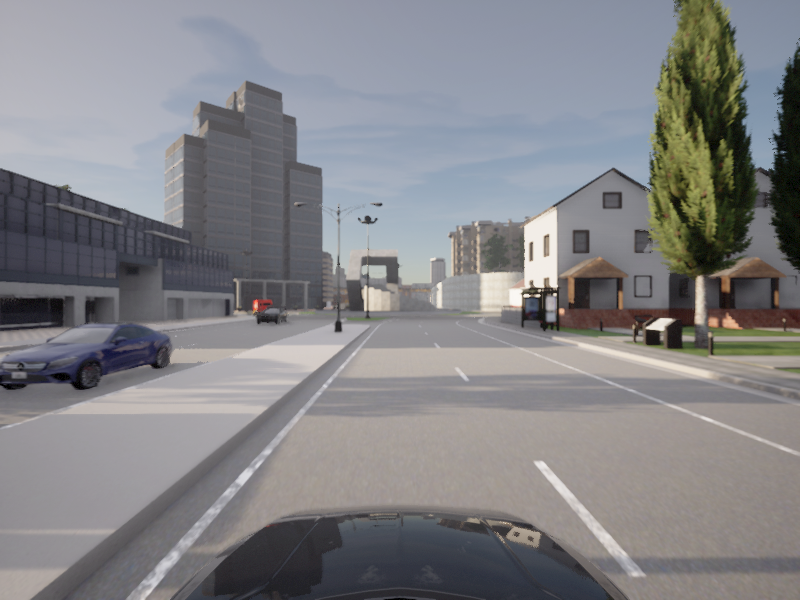vehicle: (0, 319, 182, 397), (252, 306, 289, 325)
